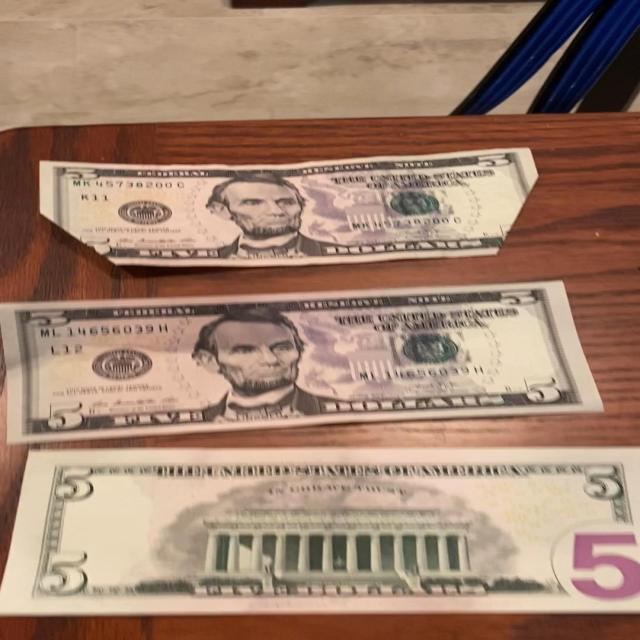5-Back: (0, 445, 640, 617)
5-Front: (0, 278, 607, 446), (36, 146, 540, 269)
